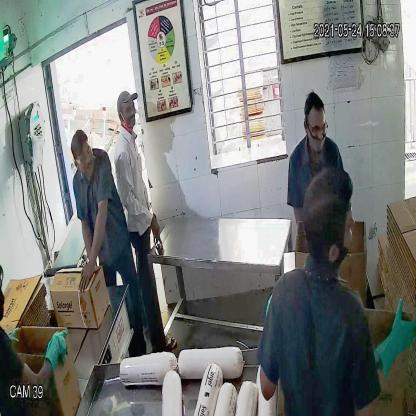goggles: (304, 118, 330, 141)
no_goggles: (118, 99, 137, 117)
